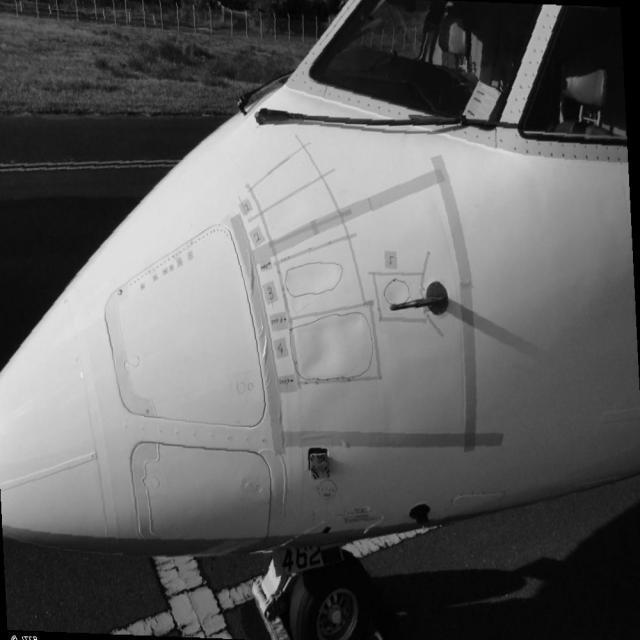dent: (304, 314, 366, 377), (289, 263, 340, 306), (384, 283, 410, 308)
